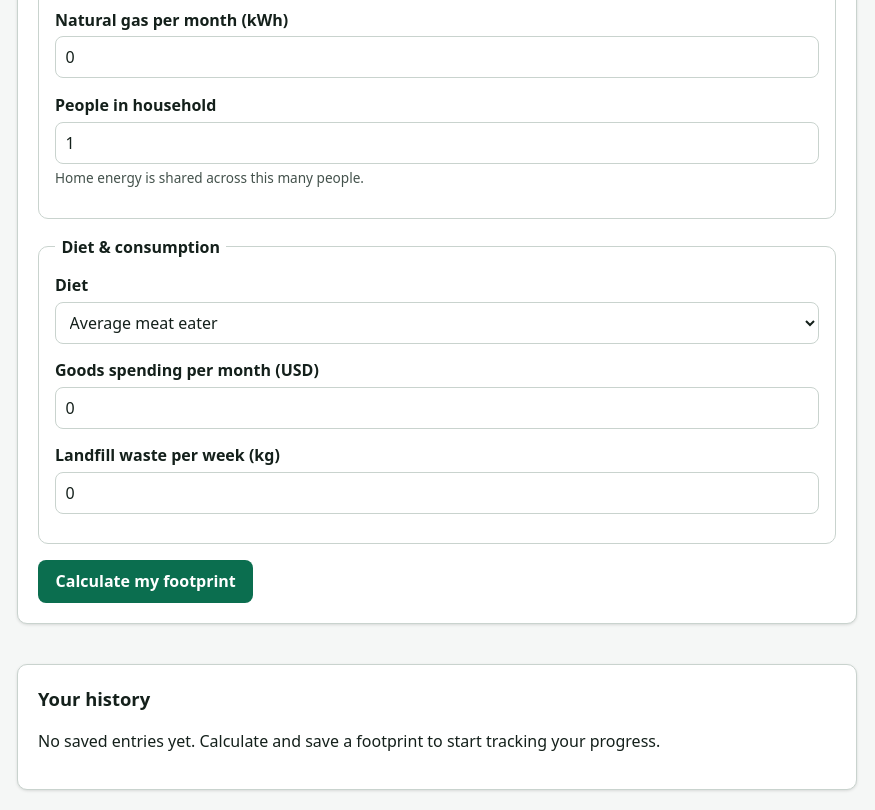
Test: App › shows an error message when calculation fails
(page scrolled)
Click the button "Calculate my footprint" at (146, 581), box [38,560,253,603]
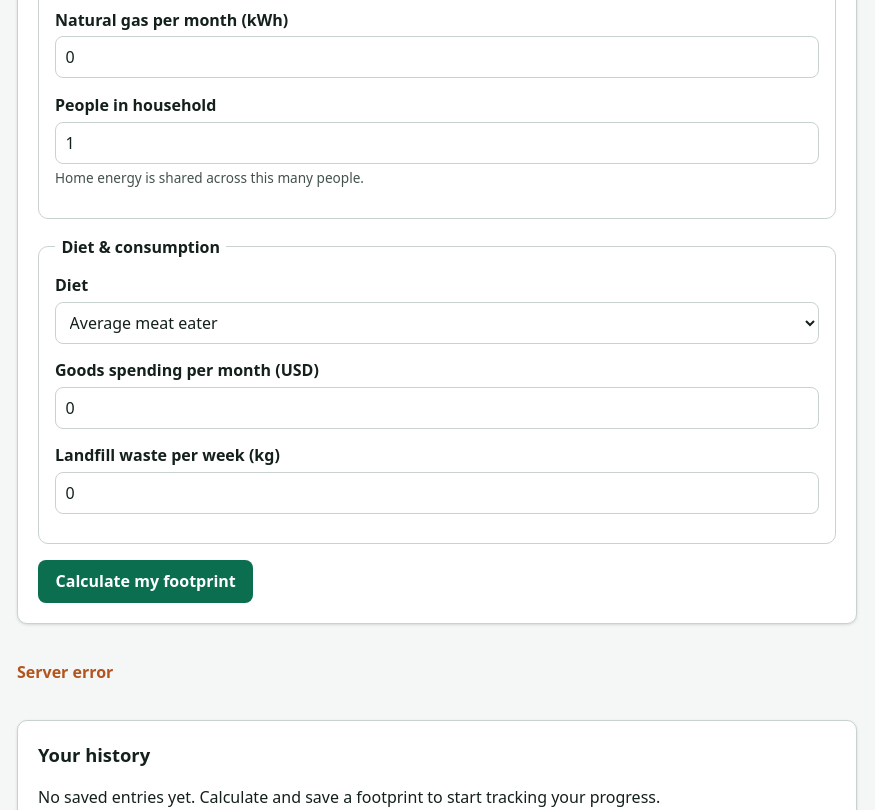
Check: the message reads "Server error", box [17,661,113,683]
